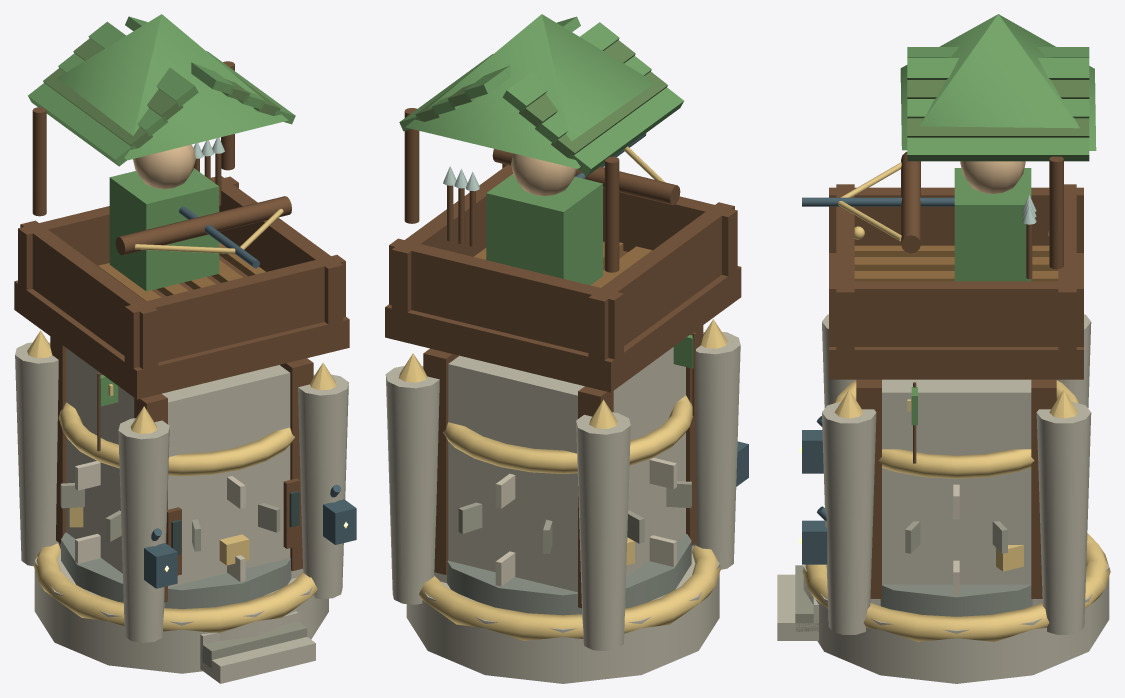
The model's file is tower-arrow-3-base.glb.
3 renders of one model, left to right at view 1: azimuth 30°, elevation 25°; view 2: azimuth 150°, elevation 25°; view 3: azimuth 270°, elevation 25°, orthographic. The views are drawn at different scales.
Parts seen in each view (by area): view 1: Turret, Foundation, arrow-L3-base; view 2: Turret, Foundation, arrow-L3-base; view 3: Turret, Foundation, arrow-L3-base.
Part boxes in pixels (bbox=[...]): Turret: bbox=[14, 14, 349, 399]; Foundation: bbox=[15, 330, 356, 683]; arrow-L3-base: bbox=[34, 532, 328, 673]; Turret: bbox=[385, 14, 741, 392]; Foundation: bbox=[385, 319, 748, 651]; arrow-L3-base: bbox=[406, 534, 719, 683]; Turret: bbox=[802, 14, 1096, 379]; Foundation: bbox=[777, 314, 1110, 641]; arrow-L3-base: bbox=[803, 561, 1109, 683].
Size of the model in its own units: 1.69 by 3.67 by 1.83.
